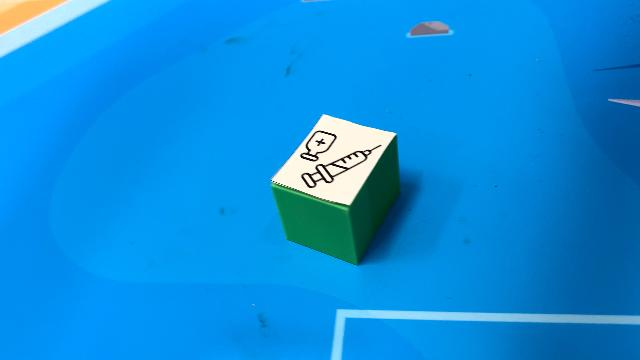syringe: (270, 113, 400, 265)
